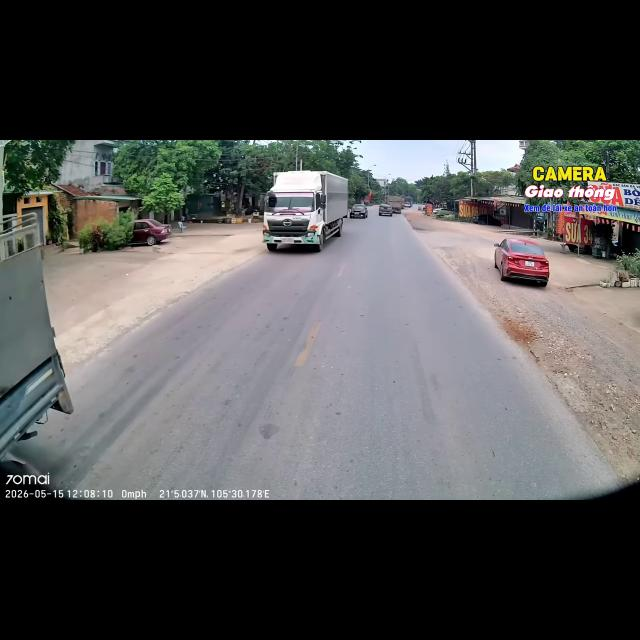car: (494, 239, 549, 286), (132, 219, 171, 245), (472, 214, 501, 225), (349, 204, 367, 218), (379, 204, 392, 215), (433, 208, 453, 215), (404, 203, 411, 207)
truck: (0, 214, 72, 465), (263, 171, 348, 251), (386, 196, 403, 213), (404, 197, 412, 207)
